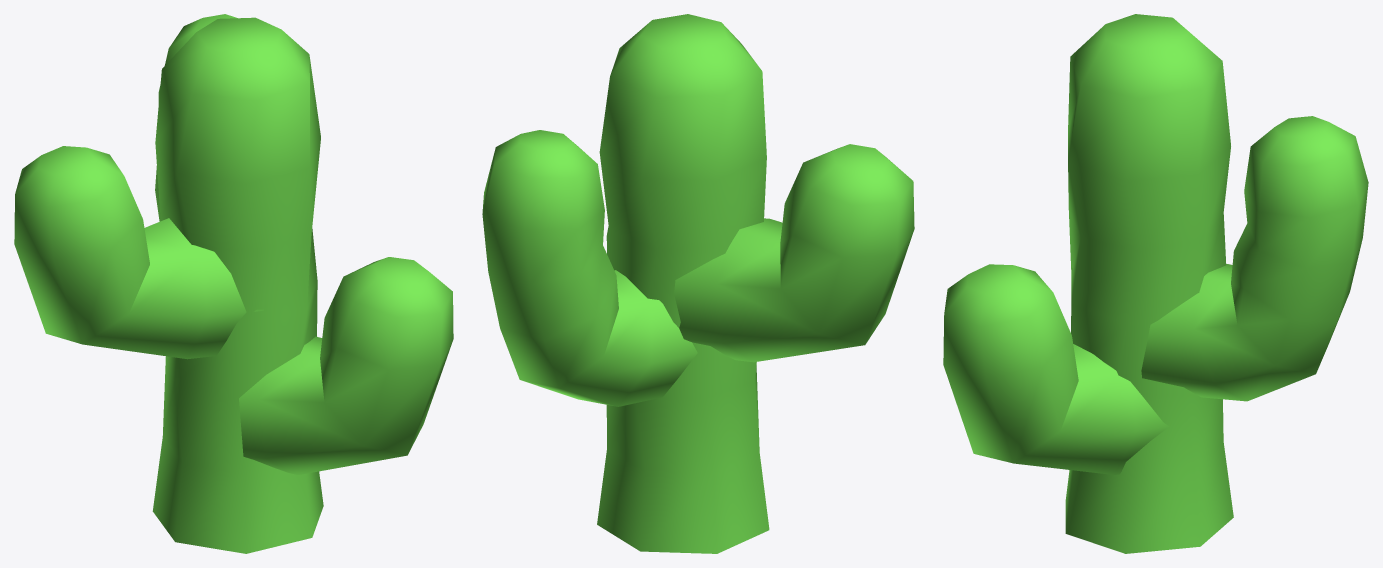
Rendered from Cactus1.fbx.
3 renders of one model, left to right at view 1: azimuth 30°, elevation 25°; view 2: azimuth 150°, elevation 25°; view 3: azimuth 270°, elevation 25°, orthographic.
Visible parts, largest first — view 1: Cactus4; view 2: Cactus4; view 3: Cactus4.
Part boxes in pixels (x1,y1,x2,y2): Cactus4: [14, 14, 453, 553]; Cactus4: [482, 14, 914, 553]; Cactus4: [943, 14, 1368, 553].
Bounding box in the file's own units: 524 × 684 × 543.
